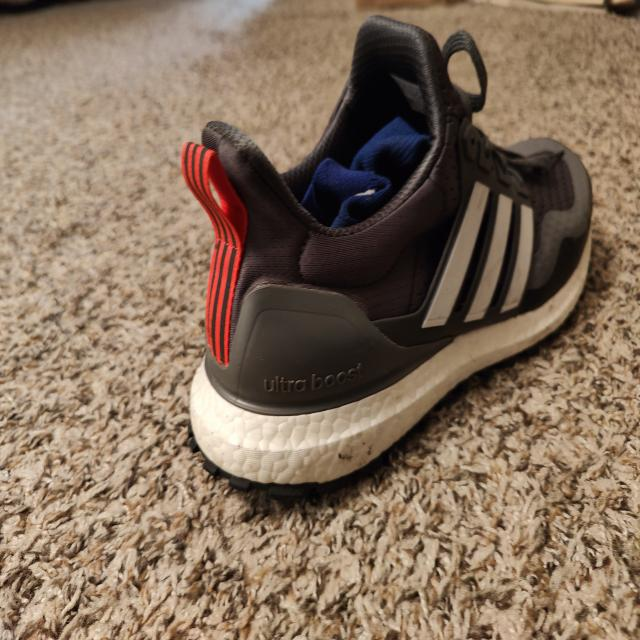black shoes: (184, 127, 593, 480)
